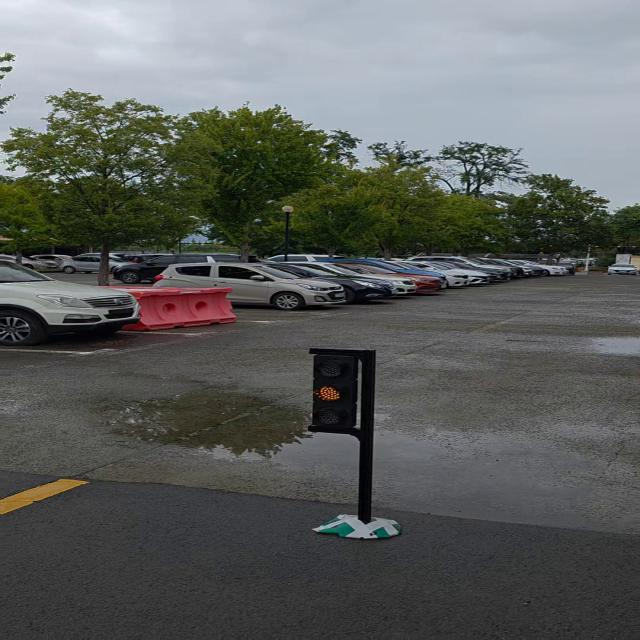yellow: (307, 347, 367, 434)
